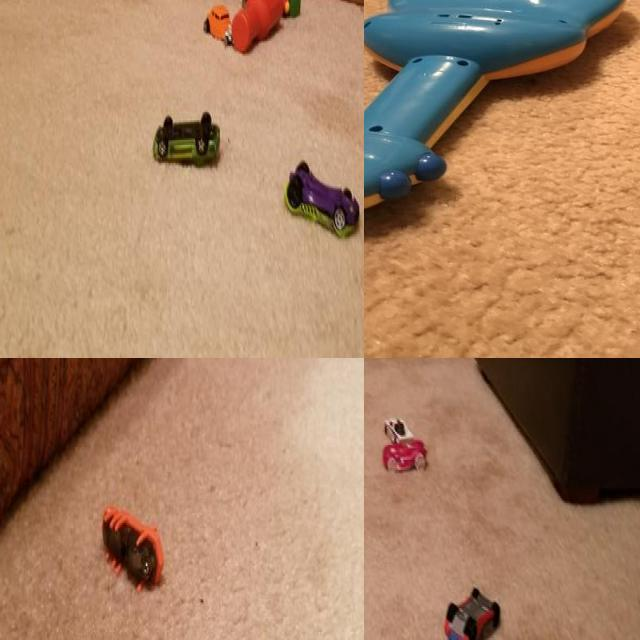toy: (364, 0, 629, 208), (98, 501, 168, 600), (284, 156, 362, 239), (152, 109, 221, 166), (441, 582, 506, 640), (233, 0, 283, 57), (379, 438, 428, 476), (198, 0, 237, 44), (383, 407, 411, 441), (277, 0, 301, 17)
